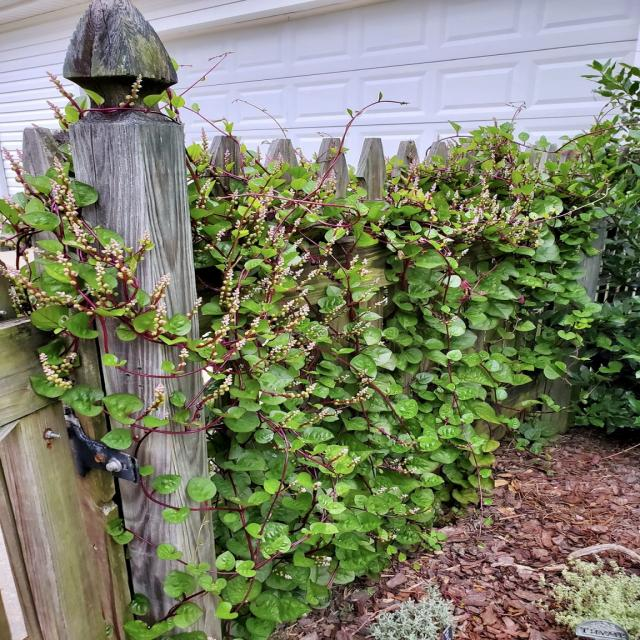Medicinal-Basale: (198, 173, 448, 557), (4, 137, 218, 375), (425, 112, 577, 402)
